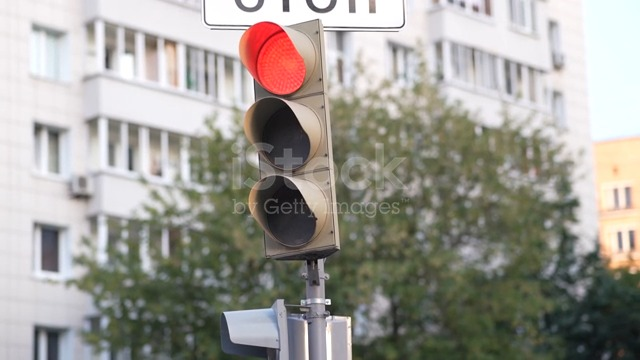red traffic light: (233, 9, 348, 262)
